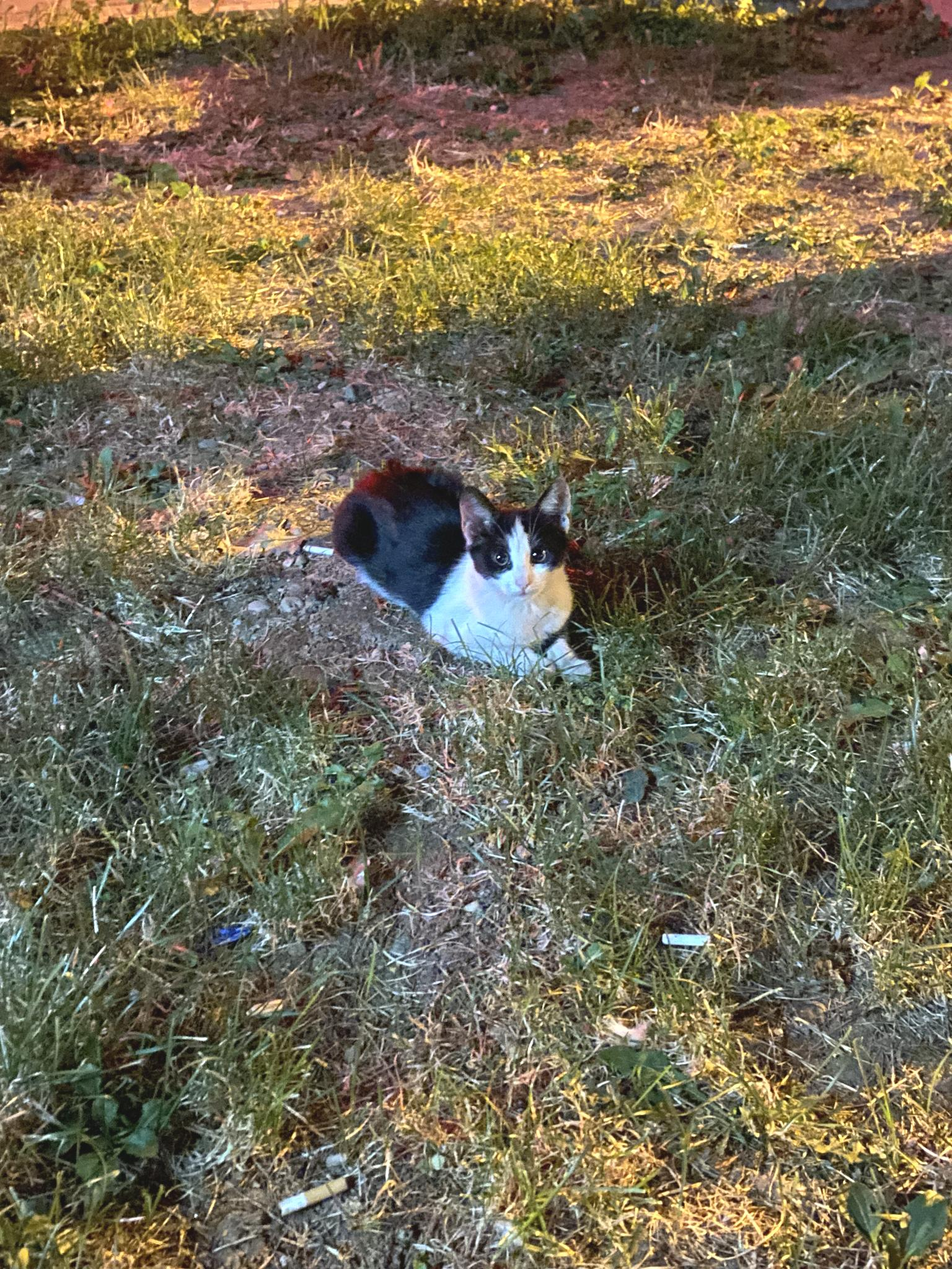macka: (332, 465, 597, 686)
